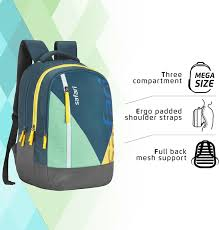backpack: (2, 39, 114, 191)
